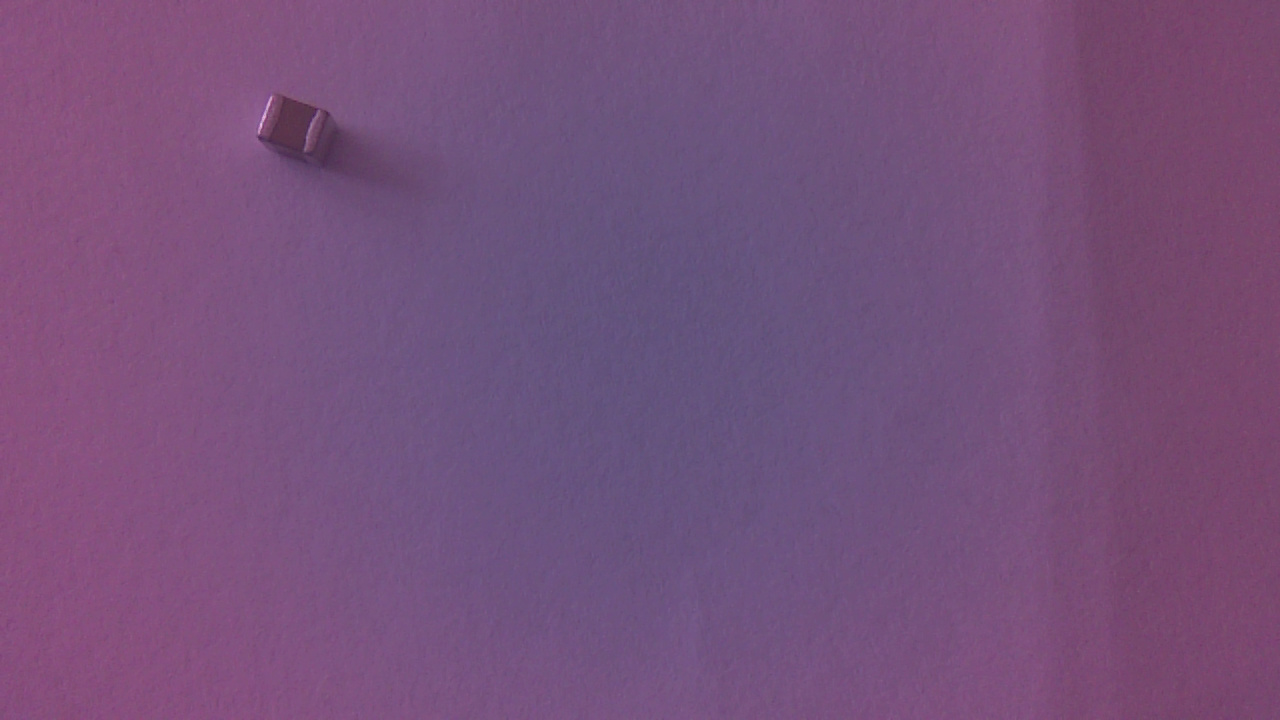Condensator: (256, 91, 346, 180)
